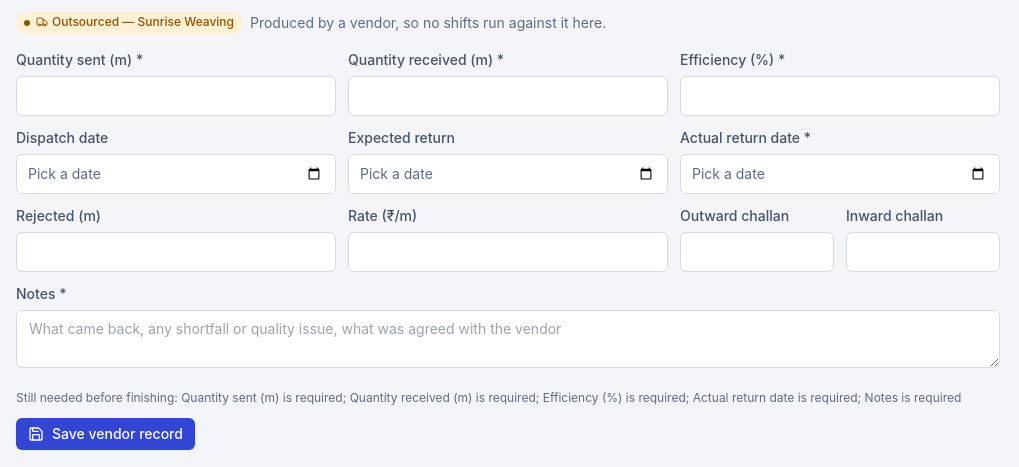
OutsourcingPanel › drops a requirement from the list as soon as it is typed
The width and height of the screenshot is (1019, 467).
Expected: the text "Still needed" shows "Efficiency", [181, 390, 961, 405]
In the number field labelled "Efficiency (%) *": (840, 96) [680, 76, 1000, 116], type "94"
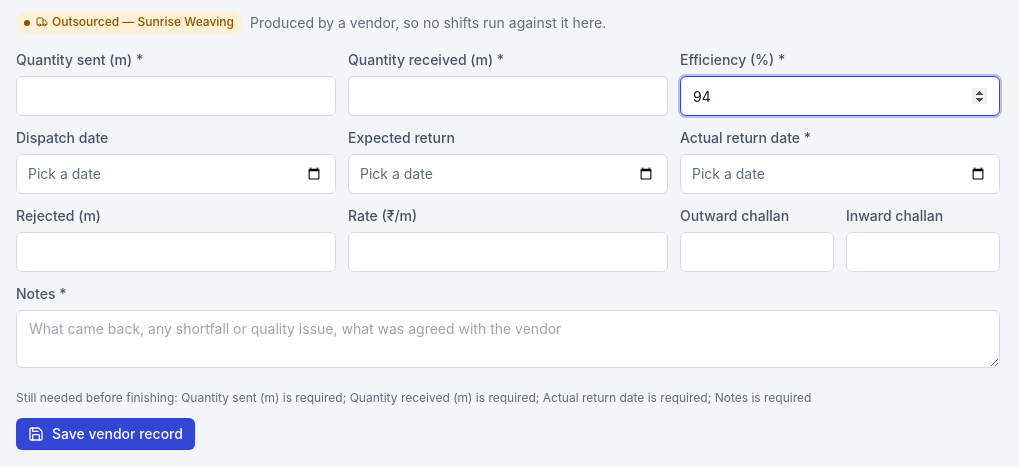
Result: the text "Still needed" no longer shows "Efficiency (%) is required"
